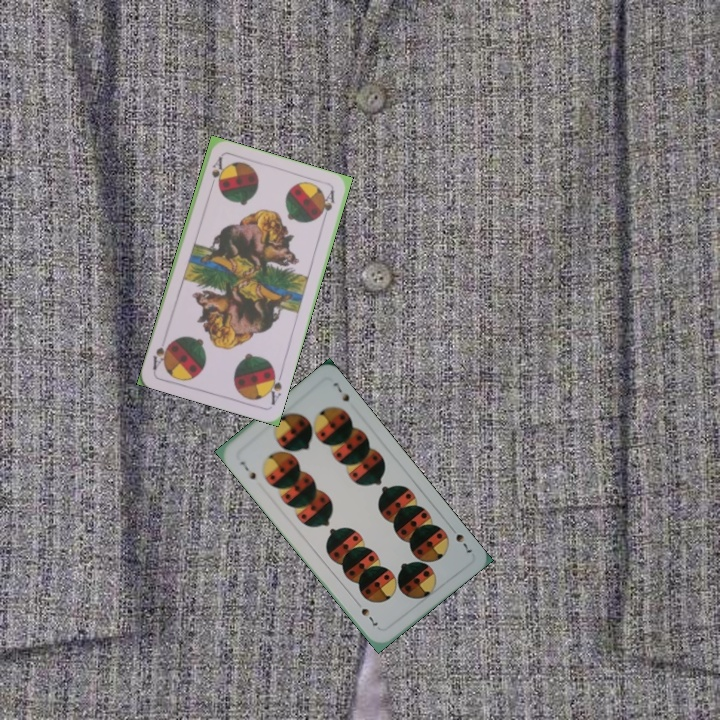S7: (446, 522, 475, 557), (236, 457, 259, 482)
SA: (262, 366, 285, 408), (206, 153, 225, 193)
